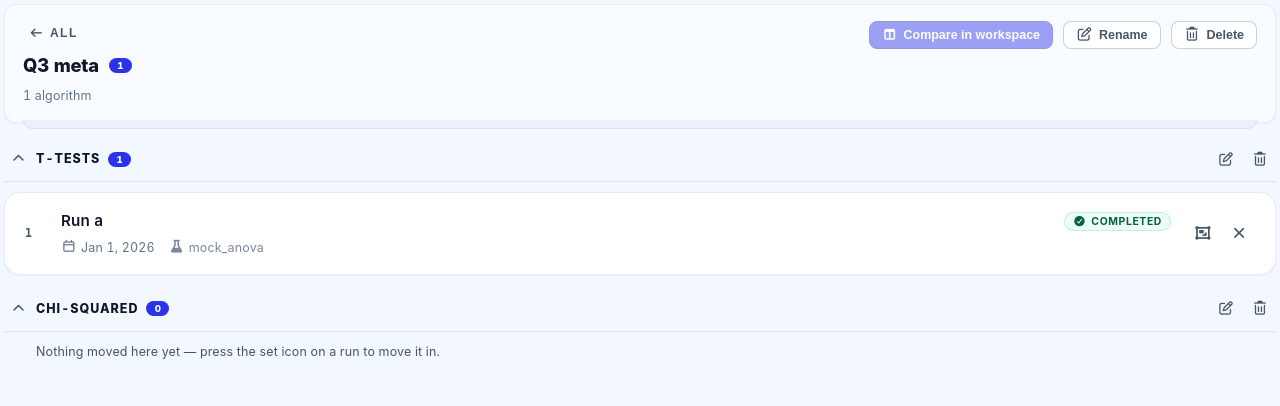
Test case: ExperimentFolderComponent › sets › keeps a set name that clashes with a sibling, and says so
Click the button with class "icon-btn" in the row of "T-tests" at [1226, 159], box [1210,143,1242,175]
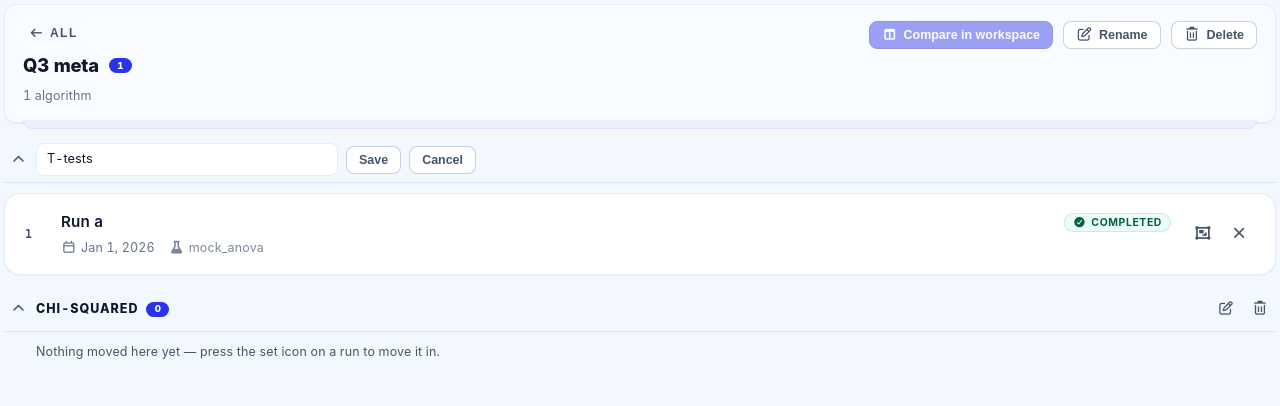
Replace the text in the field with class "member-group-rename-input" with "chi-squared" at [187, 160], box [36,143,338,176]
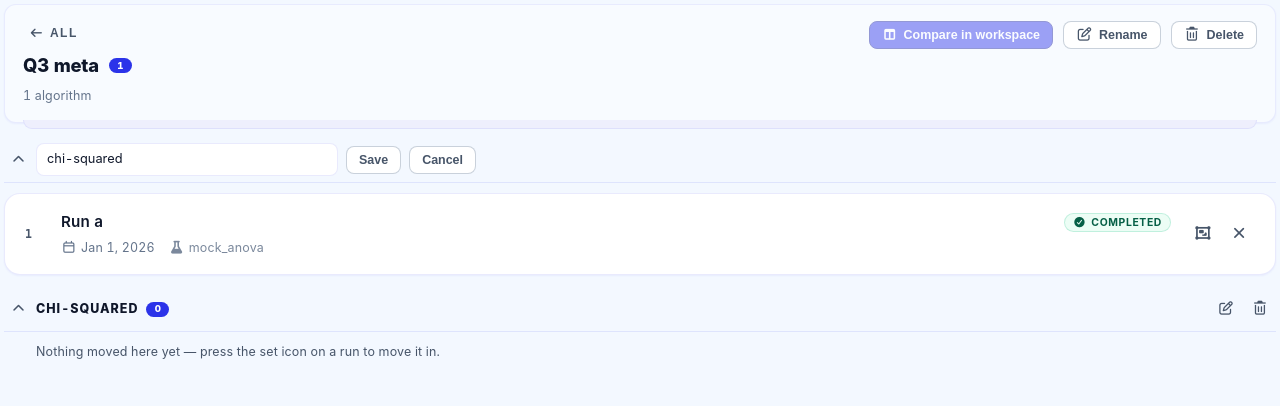
Press Enter in the field with class "member-group-rename-input", box [36,143,338,176]
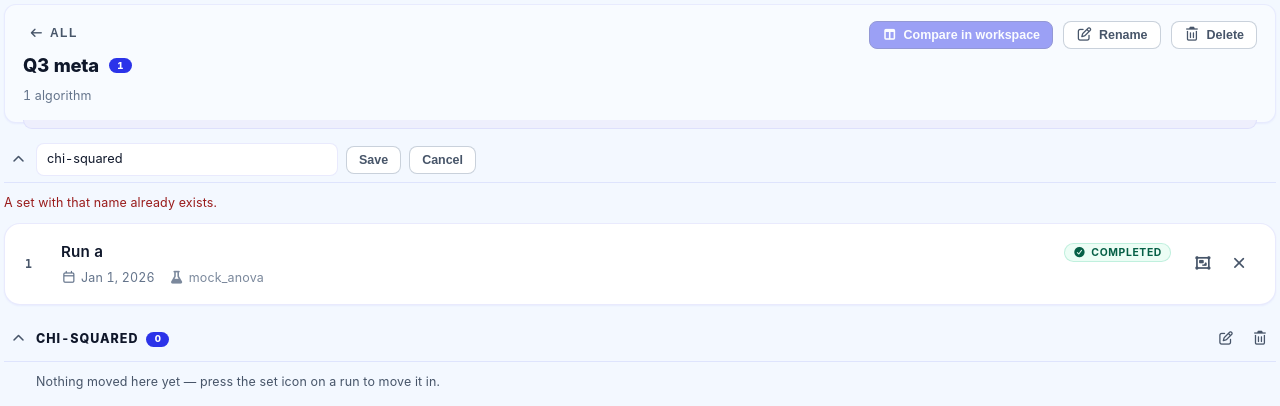
Expected: the text with class "folder-form-error" shows "already exists", [4,195,217,210]
